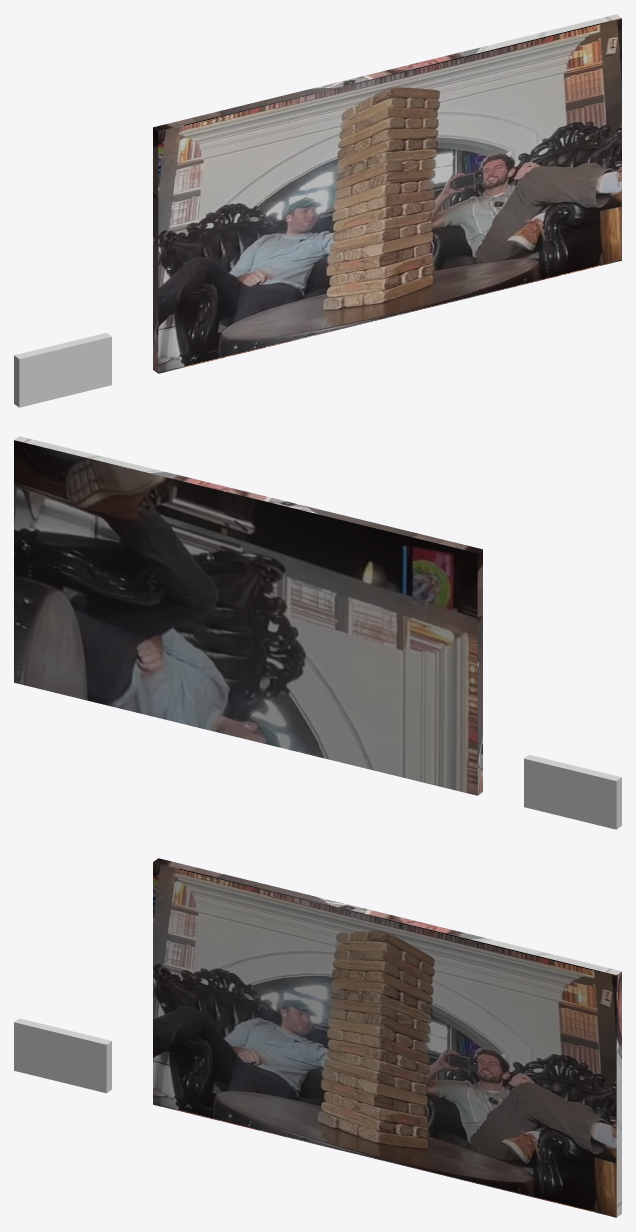
Rendered from tower_art.glb.
The picture shows the model from 3 angles, top to bottom: view 1: azimuth 30°, elevation 25°; view 2: azimuth 150°, elevation 25°; view 3: azimuth 330°, elevation 25°; orthographic projection.
Visible parts, largest first — view 1: Cube.600, Cube.602; view 2: Cube.600, Cube.602; view 3: Cube.600, Cube.602.
Part boxes in pixels (x1,y1,x2,y2): Cube.600: (153,14,621,373); Cube.602: (14,332,111,407); Cube.600: (14,436,482,795); Cube.602: (524,754,621,829); Cube.600: (153,858,621,1217); Cube.602: (14,1018,111,1093).
Size of the model in its own units: 13 by 5 by 0.2.
Materials: 1 (1 with a texture image).
